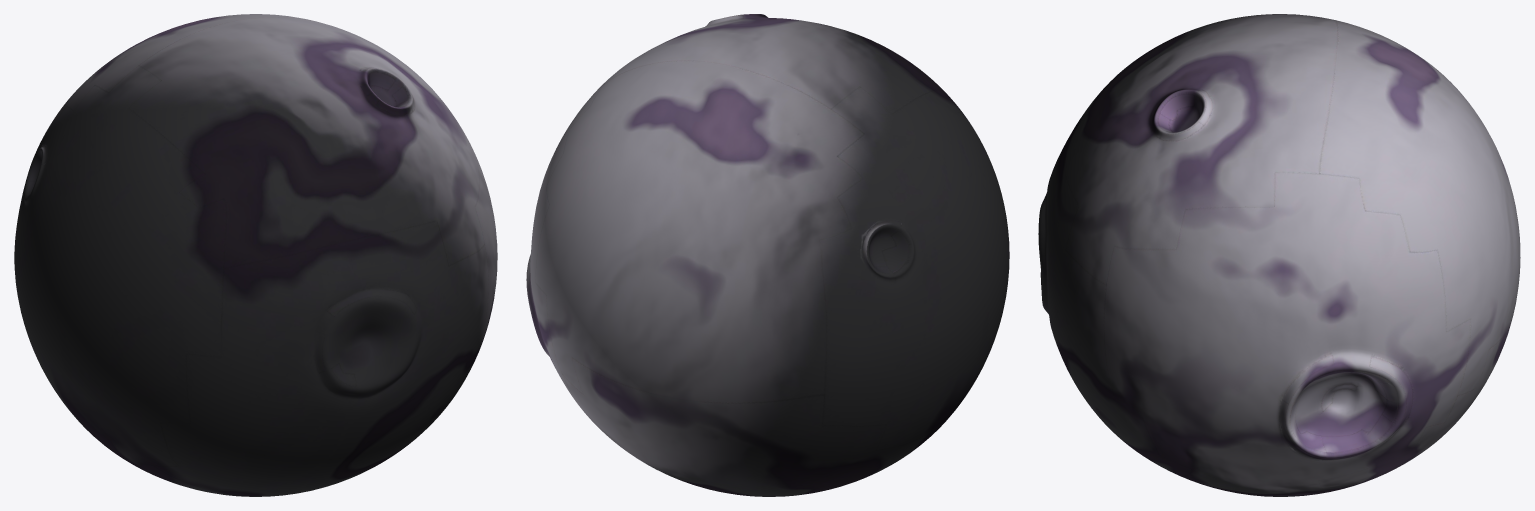
The model's file is planet_v01.gltf.
3 views of the same model, side by side, from view 1: azimuth 30°, elevation 25°; view 2: azimuth 150°, elevation 25°; view 3: azimuth 270°, elevation 25° (orthographic).
Parts seen in each view (by area): view 1: moon.001; view 2: moon.001; view 3: moon.001.
Boxes of the visible parts, bbox=[...] form: moon.001: bbox=[14, 14, 497, 496]; moon.001: bbox=[526, 14, 1009, 496]; moon.001: bbox=[1038, 14, 1520, 496].
Size of the model in its own units: 0.9465 by 0.9417 by 0.9446.
1 material, 1 textured.
